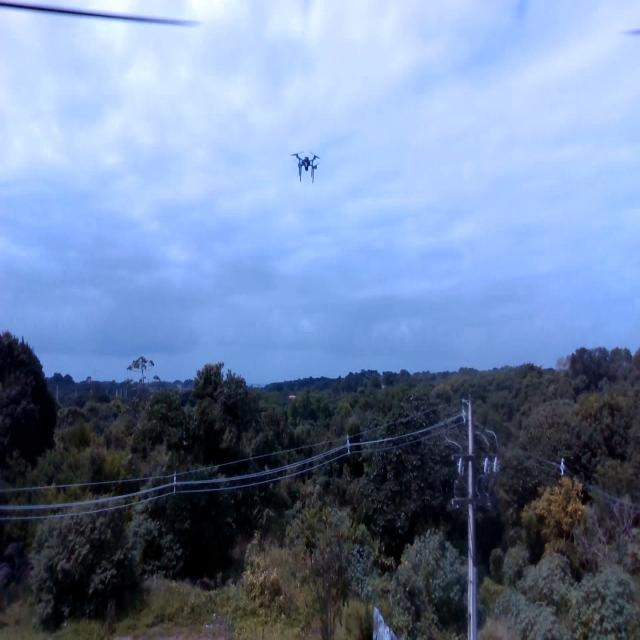-uav-: (285, 130, 326, 194)
